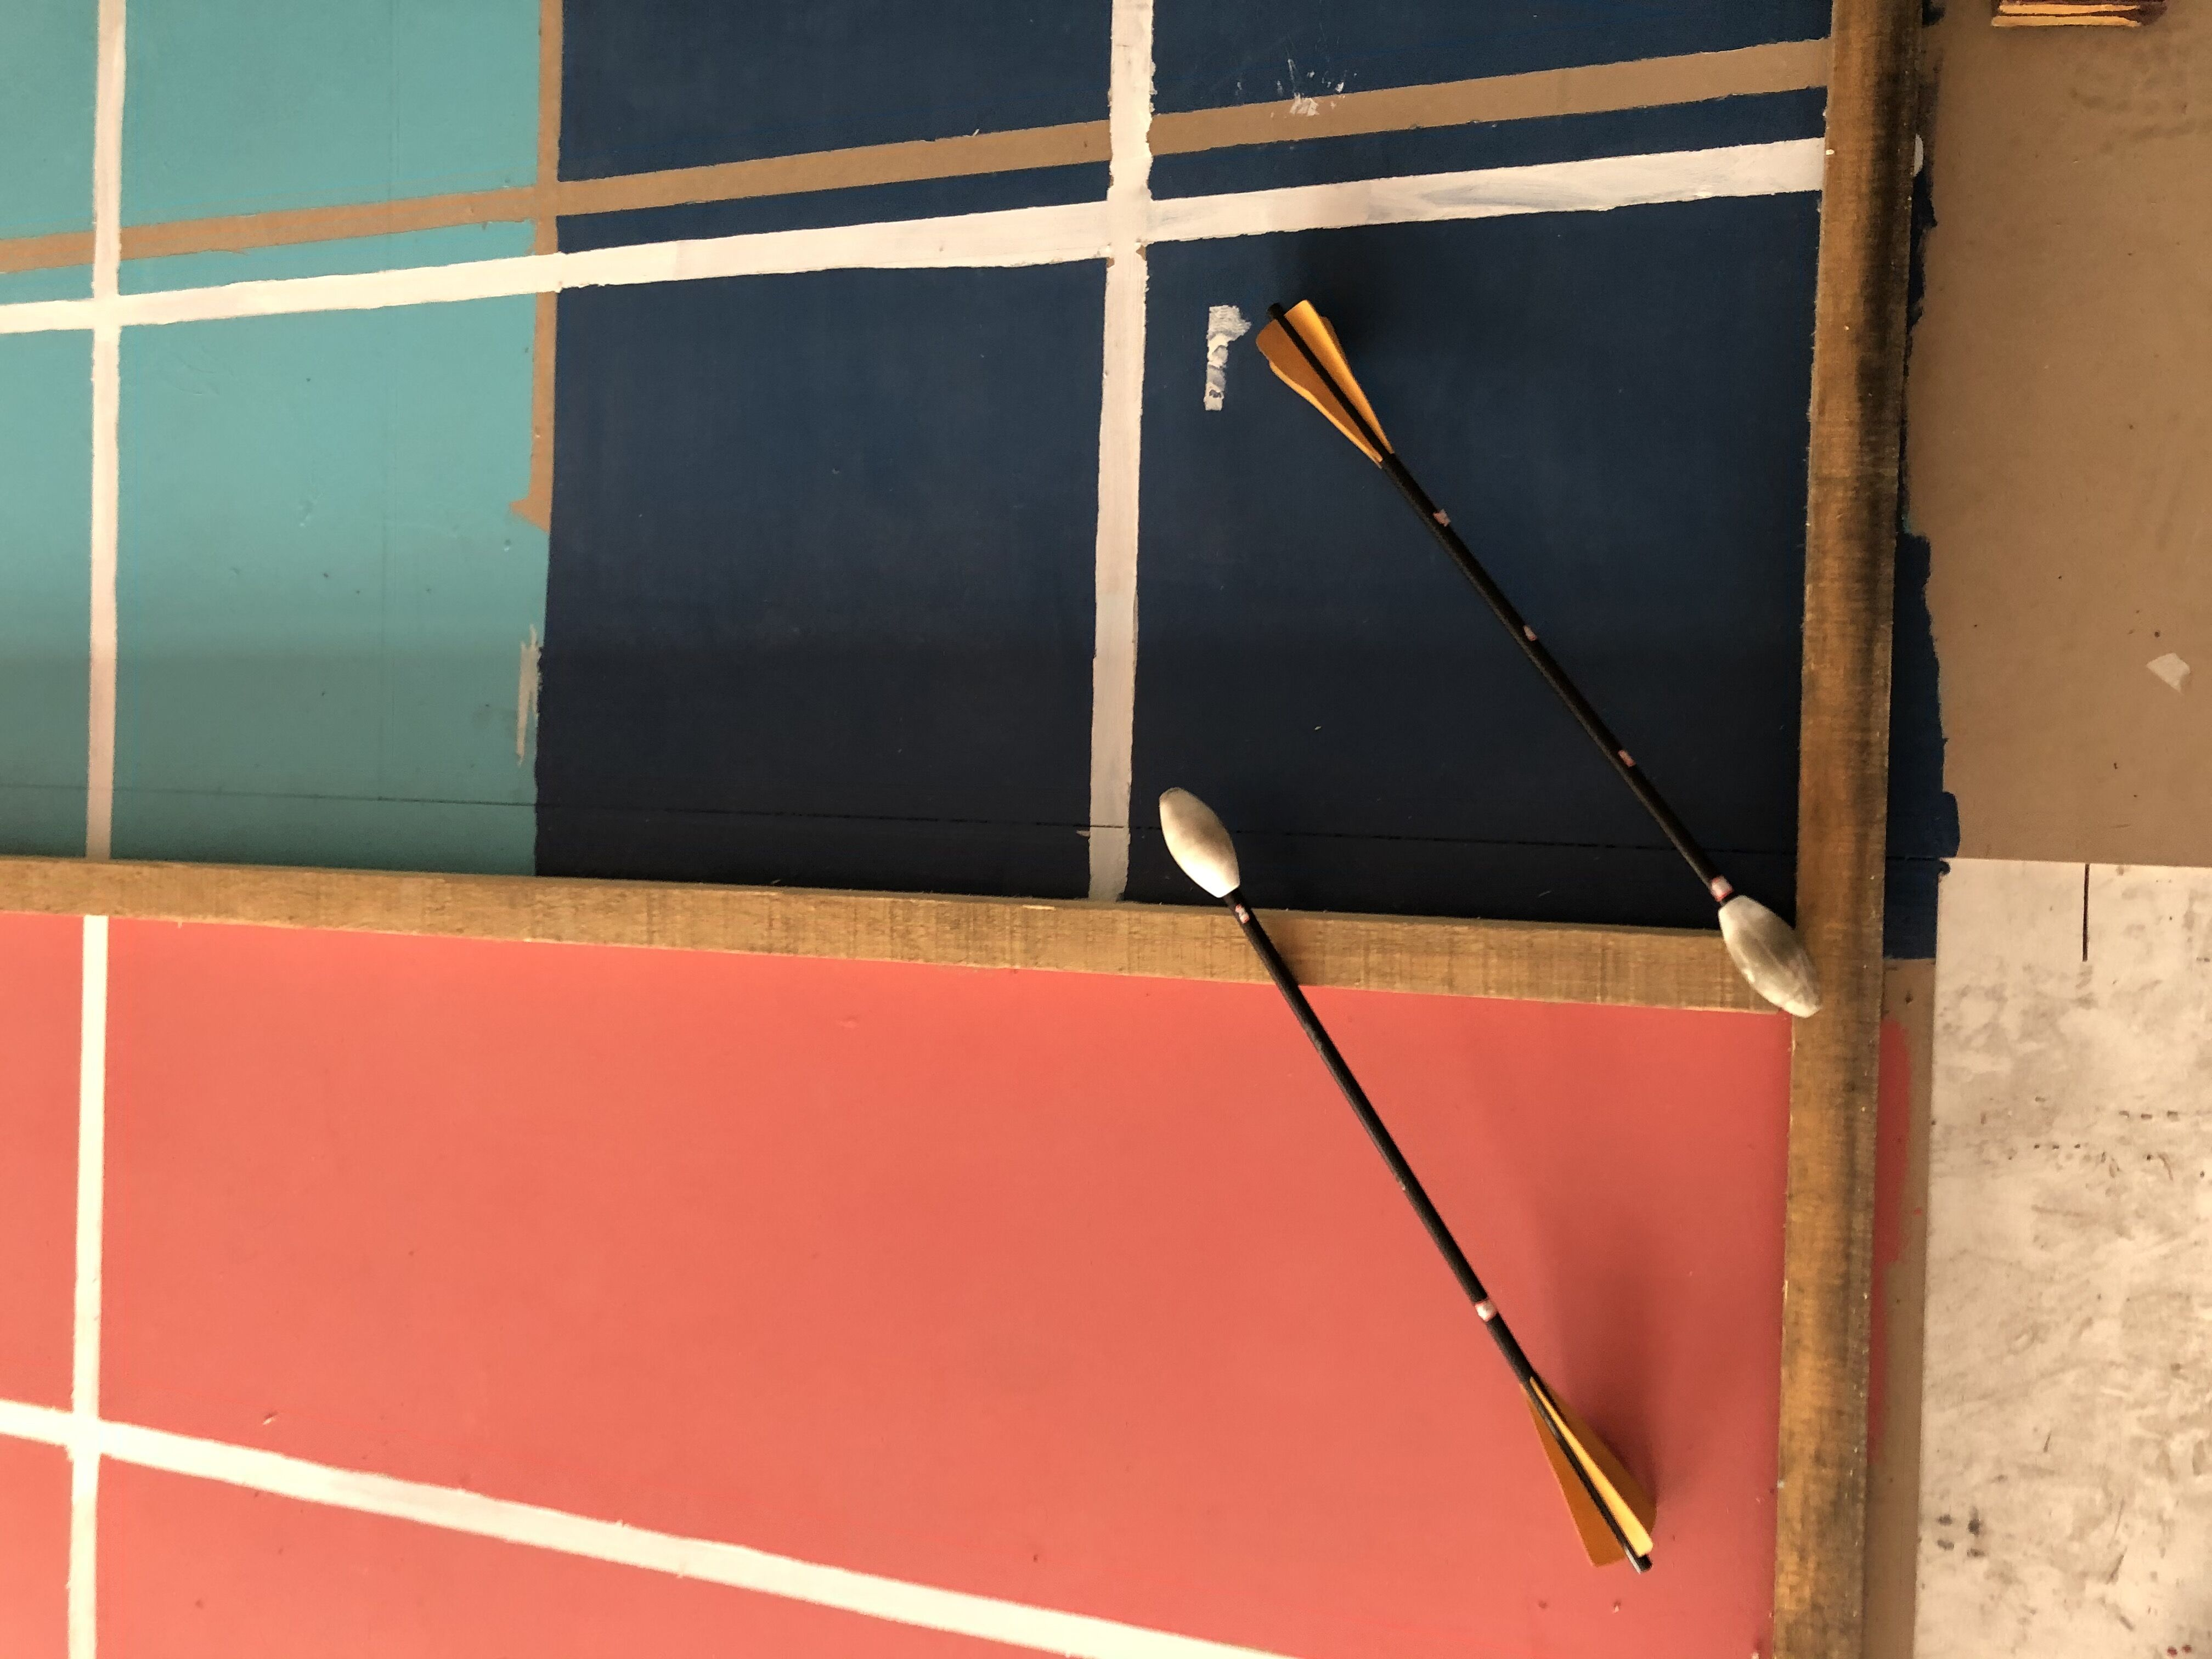arrow: (1256, 301, 1824, 1014), (1155, 784, 1658, 1575)
arrowFront: (1716, 894, 1824, 1018), (1153, 782, 1240, 897)
